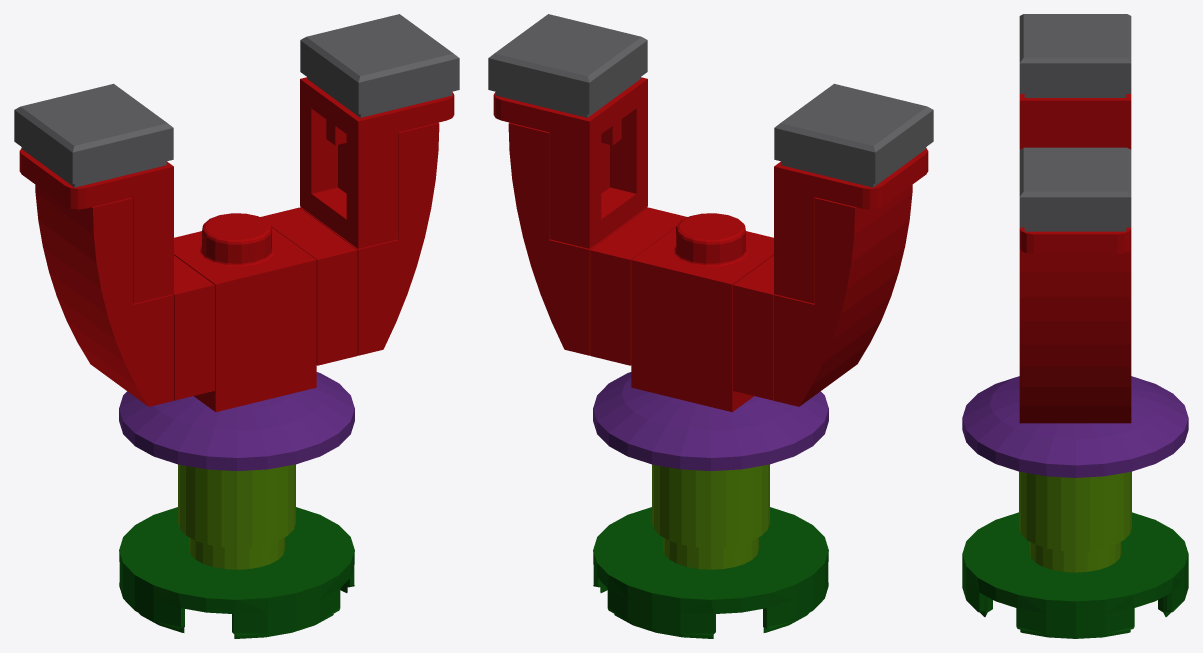
Rendered from Magnet.dae.
3 views of the same model, side by side, from view 1: azimuth 30°, elevation 25°; view 2: azimuth 150°, elevation 25°; view 3: azimuth 270°, elevation 25° (orthographic). The views are drawn at different scales.
Parts seen in each view (by area): view 1: Part.11, Part.2, Part.0, Part.10, Part.8, Part.7, Part.6, Part.5, Part.1, Part.9, Part.4, Part.3; view 2: Part.11, Part.2, Part.0, Part.10, Part.8, Part.7, Part.6, Part.5, Part.1, Part.9, Part.4, Part.3; view 3: Part.1, Part.2, Part.10, Part.5, Part.6, Part.7, Part.9, Part.8.
Part boxes in pixels (x1,y1,x2,y2): Part.11: [174, 213, 316, 412]; Part.2: [119, 507, 354, 638]; Part.0: [35, 185, 173, 406]; Part.10: [119, 372, 354, 470]; Part.8: [300, 77, 454, 248]; Part.7: [14, 83, 173, 187]; Part.6: [300, 14, 459, 117]; Part.5: [178, 464, 295, 569]; Part.1: [300, 122, 439, 355]; Part.9: [19, 148, 173, 303]; Part.4: [260, 207, 357, 365]; Part.3: [173, 255, 214, 400]; Part.11: [631, 213, 773, 412]; Part.2: [593, 507, 828, 638]; Part.0: [774, 185, 912, 406]; Part.10: [593, 372, 828, 470]; Part.8: [493, 77, 647, 248]; Part.7: [774, 83, 933, 187]; Part.6: [488, 14, 647, 117]; Part.5: [652, 464, 769, 569]; Part.1: [508, 122, 647, 355]; Part.9: [774, 148, 928, 303]; Part.4: [590, 207, 687, 365]; Part.3: [733, 255, 774, 400]; Part.1: [1019, 249, 1131, 423]; Part.2: [962, 512, 1188, 638]; Part.10: [962, 376, 1188, 477]; Part.5: [1019, 471, 1131, 572]; Part.6: [1019, 147, 1131, 231]; Part.7: [1019, 14, 1131, 97]; Part.9: [1019, 94, 1131, 149]; Part.8: [1019, 227, 1131, 253].
Size of the model in its own units: 30.32 by 38.36 by 16.
